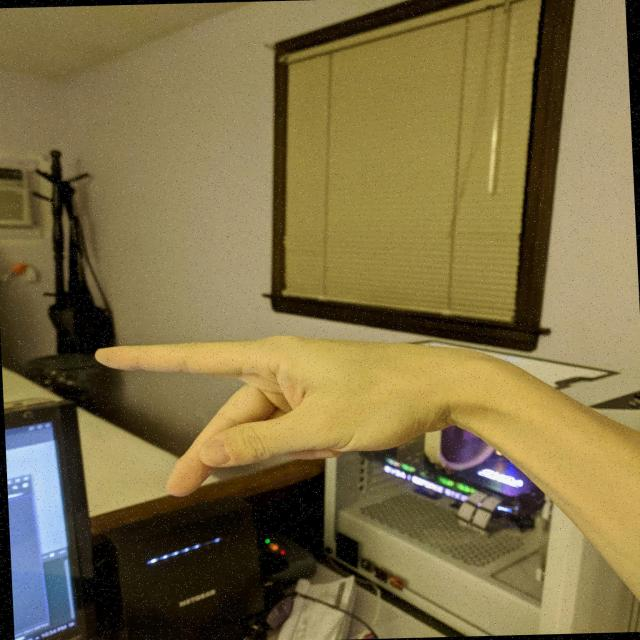P: (90, 326, 460, 503)
